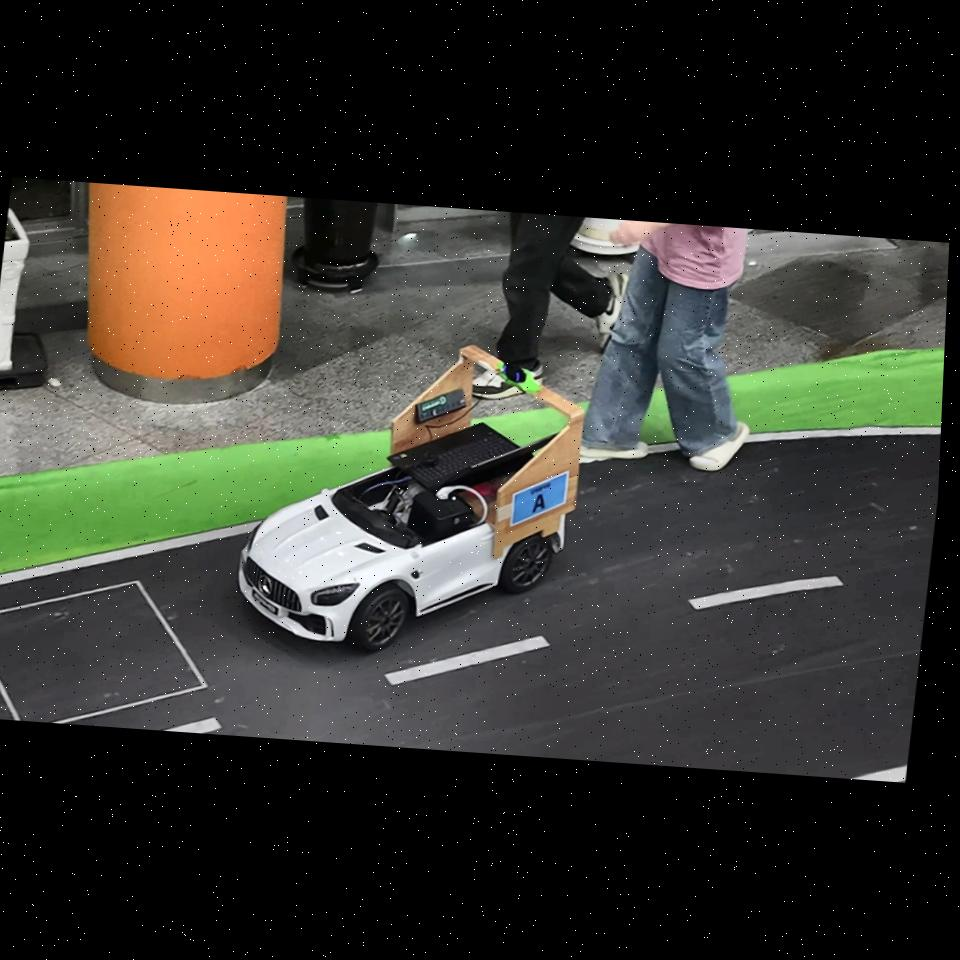broken_line: (384, 635, 550, 686), (687, 575, 844, 610), (162, 717, 222, 733)
